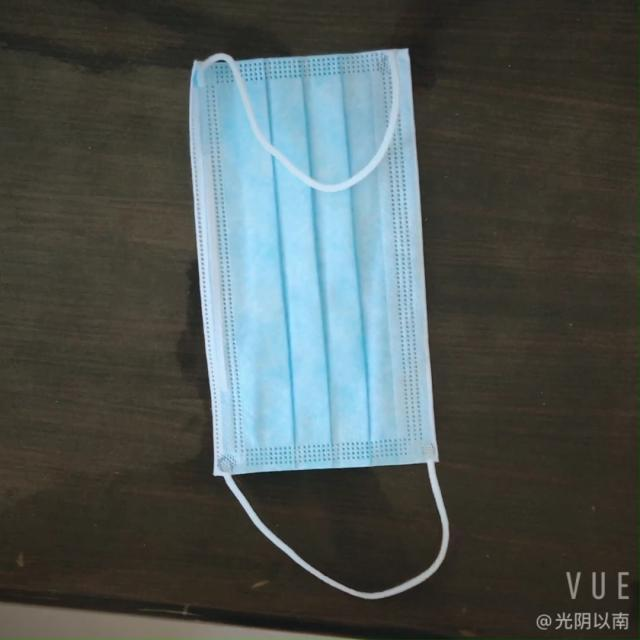face mask: (192, 50, 427, 485)
